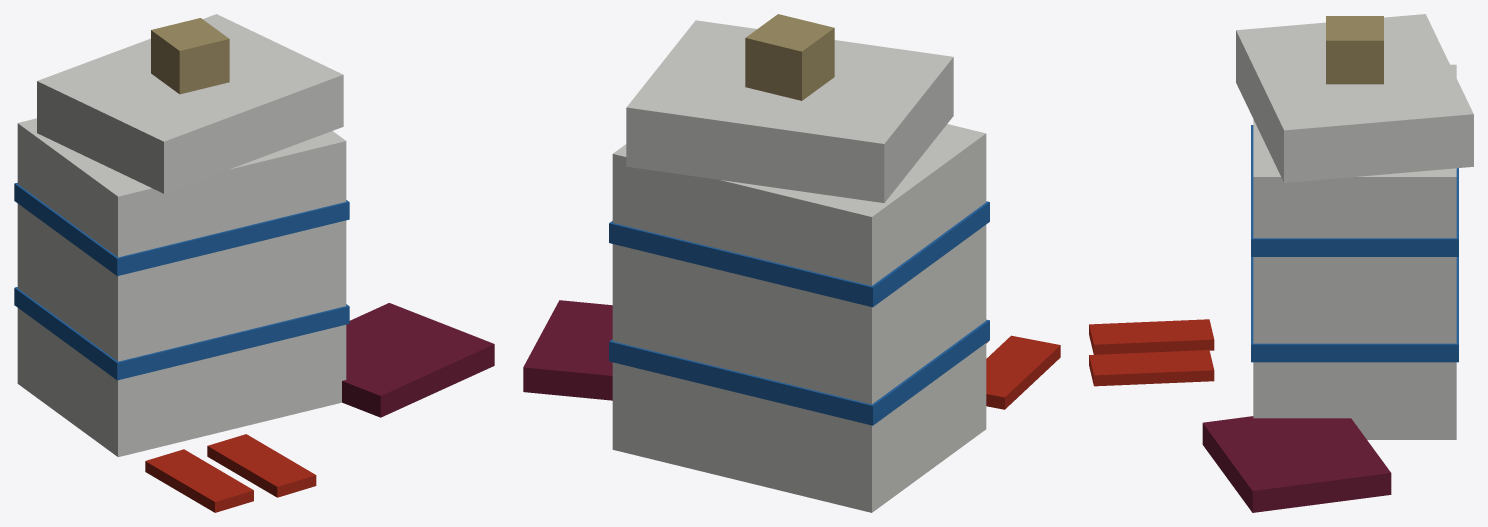
The model's file is prop_clothes-sack.5783782592f1.glb.
The picture shows the model from 3 angles, left to right: view 1: azimuth 30°, elevation 25°; view 2: azimuth 150°, elevation 25°; view 3: azimuth 270°, elevation 25°; orthographic projection. The views are drawn at different scales.
Parts seen in each view (by area): view 1: body; view 2: body; view 3: body.
Part boxes in pixels (x1=…): body: x1=14, y1=14, x2=494, y2=512; body: x1=523, y1=14, x2=1060, y2=512; body: x1=1089, y1=14, x2=1473, y2=512.
Bounding box in the file's own units: 0.9115 × 0.82 × 0.795.
